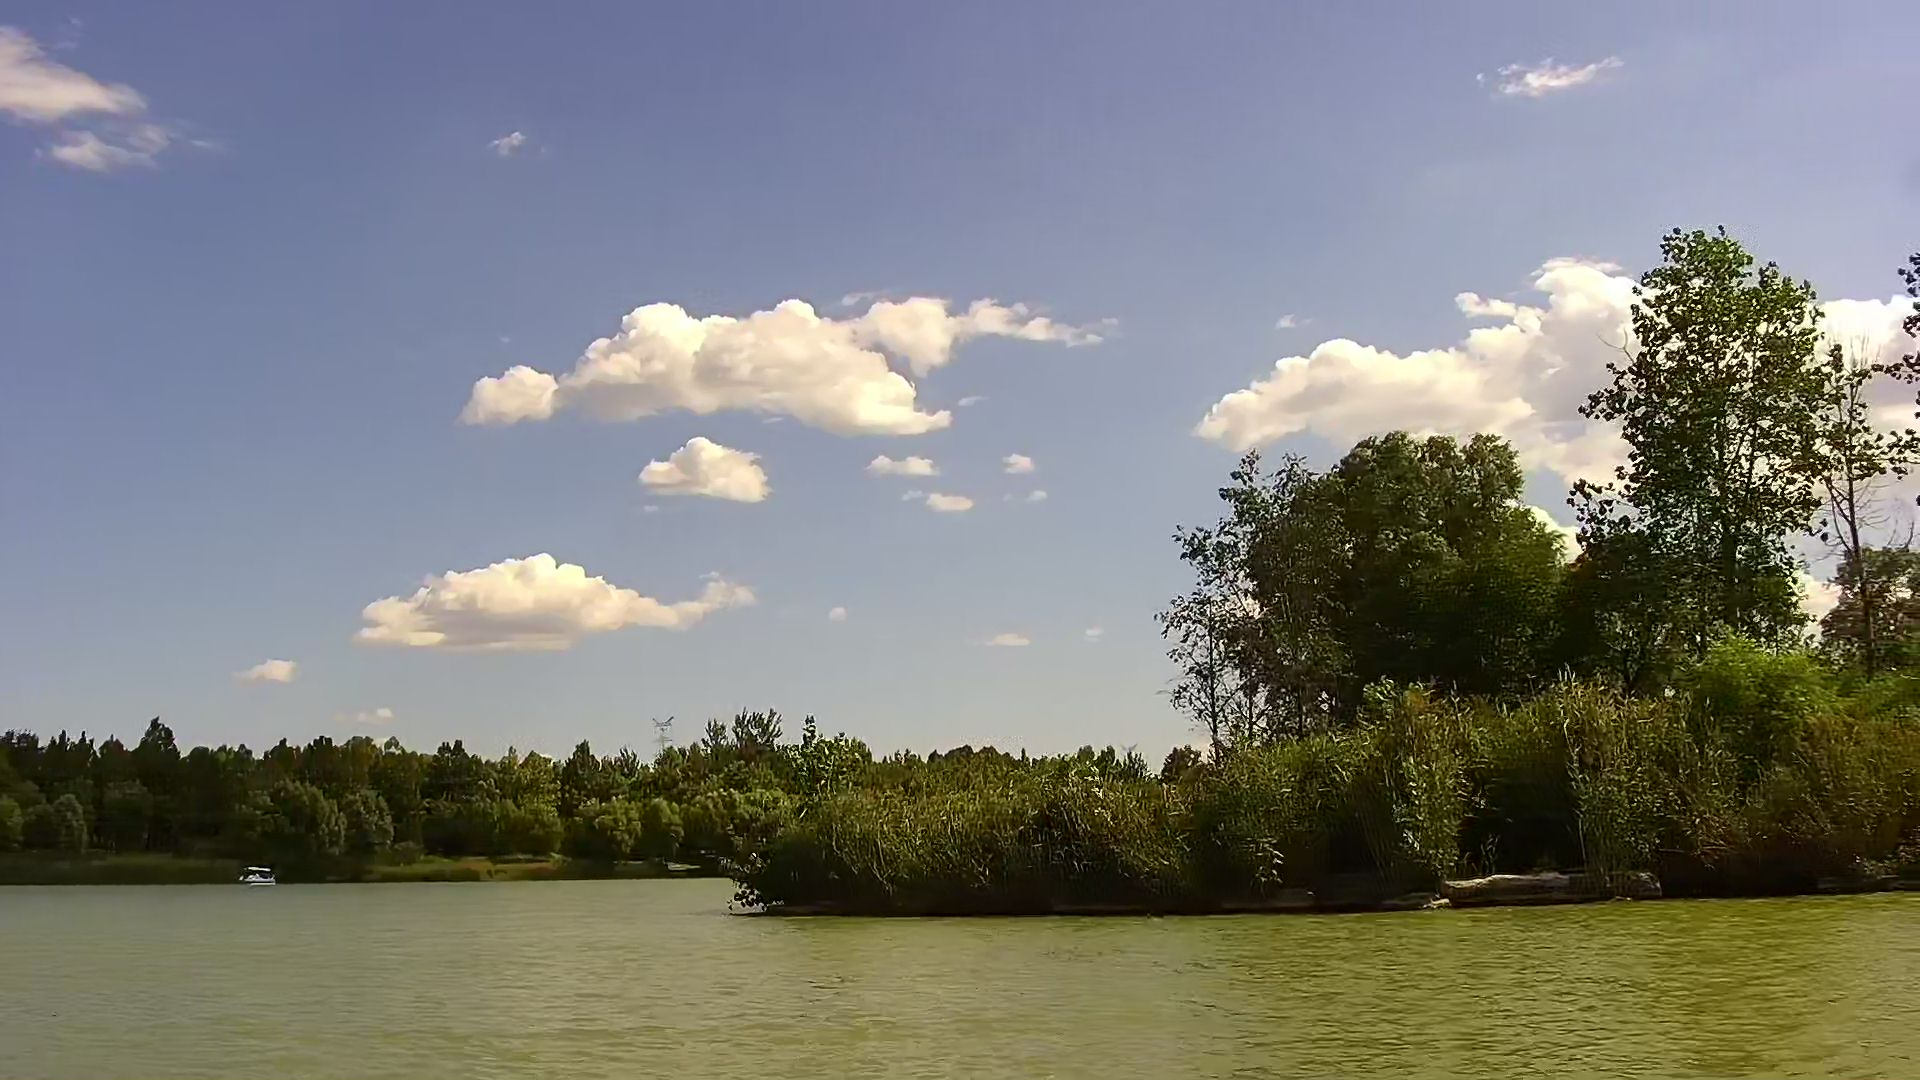boat: (233, 862, 278, 885)
